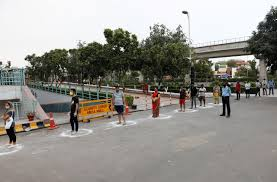Good: (2, 87, 80, 149), (68, 85, 129, 134), (113, 85, 163, 126), (199, 82, 232, 119), (152, 85, 187, 119), (212, 82, 232, 119), (175, 80, 198, 112), (190, 81, 207, 110)
